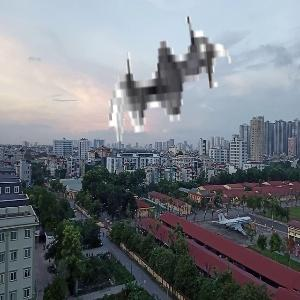drone: (92, 11, 250, 169)
